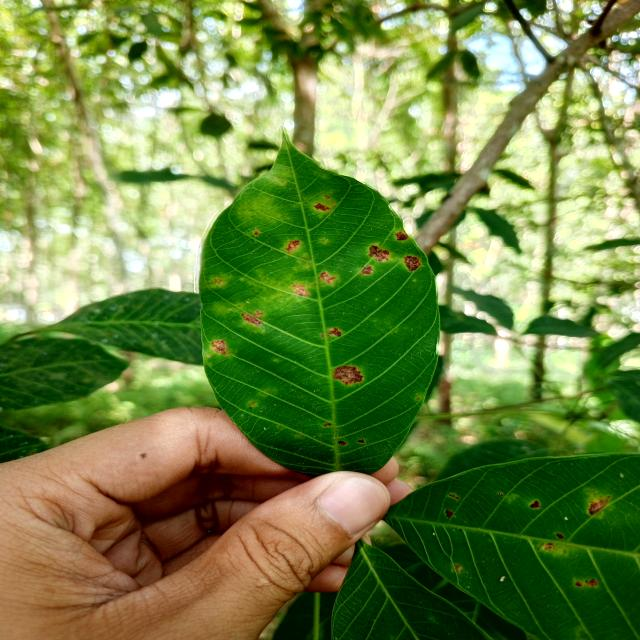Colletotrichum: (556, 533, 564, 539), (338, 441, 346, 446)
